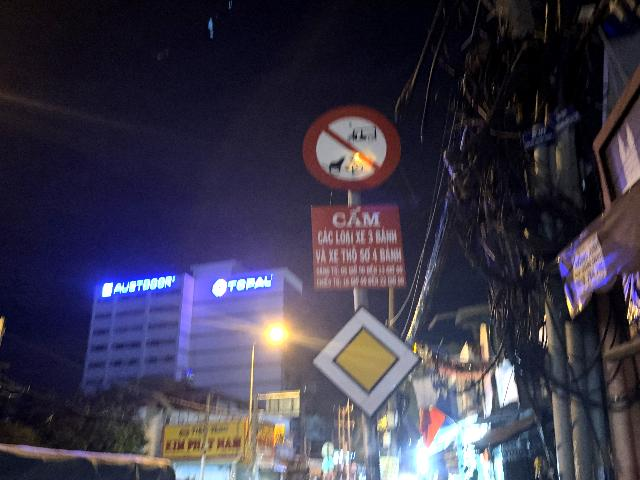bat-dau-duong-uu-tien: (310, 303, 422, 419)
cam-xe-3-banh-xe-tho-so-4-banh: (302, 105, 402, 190)
